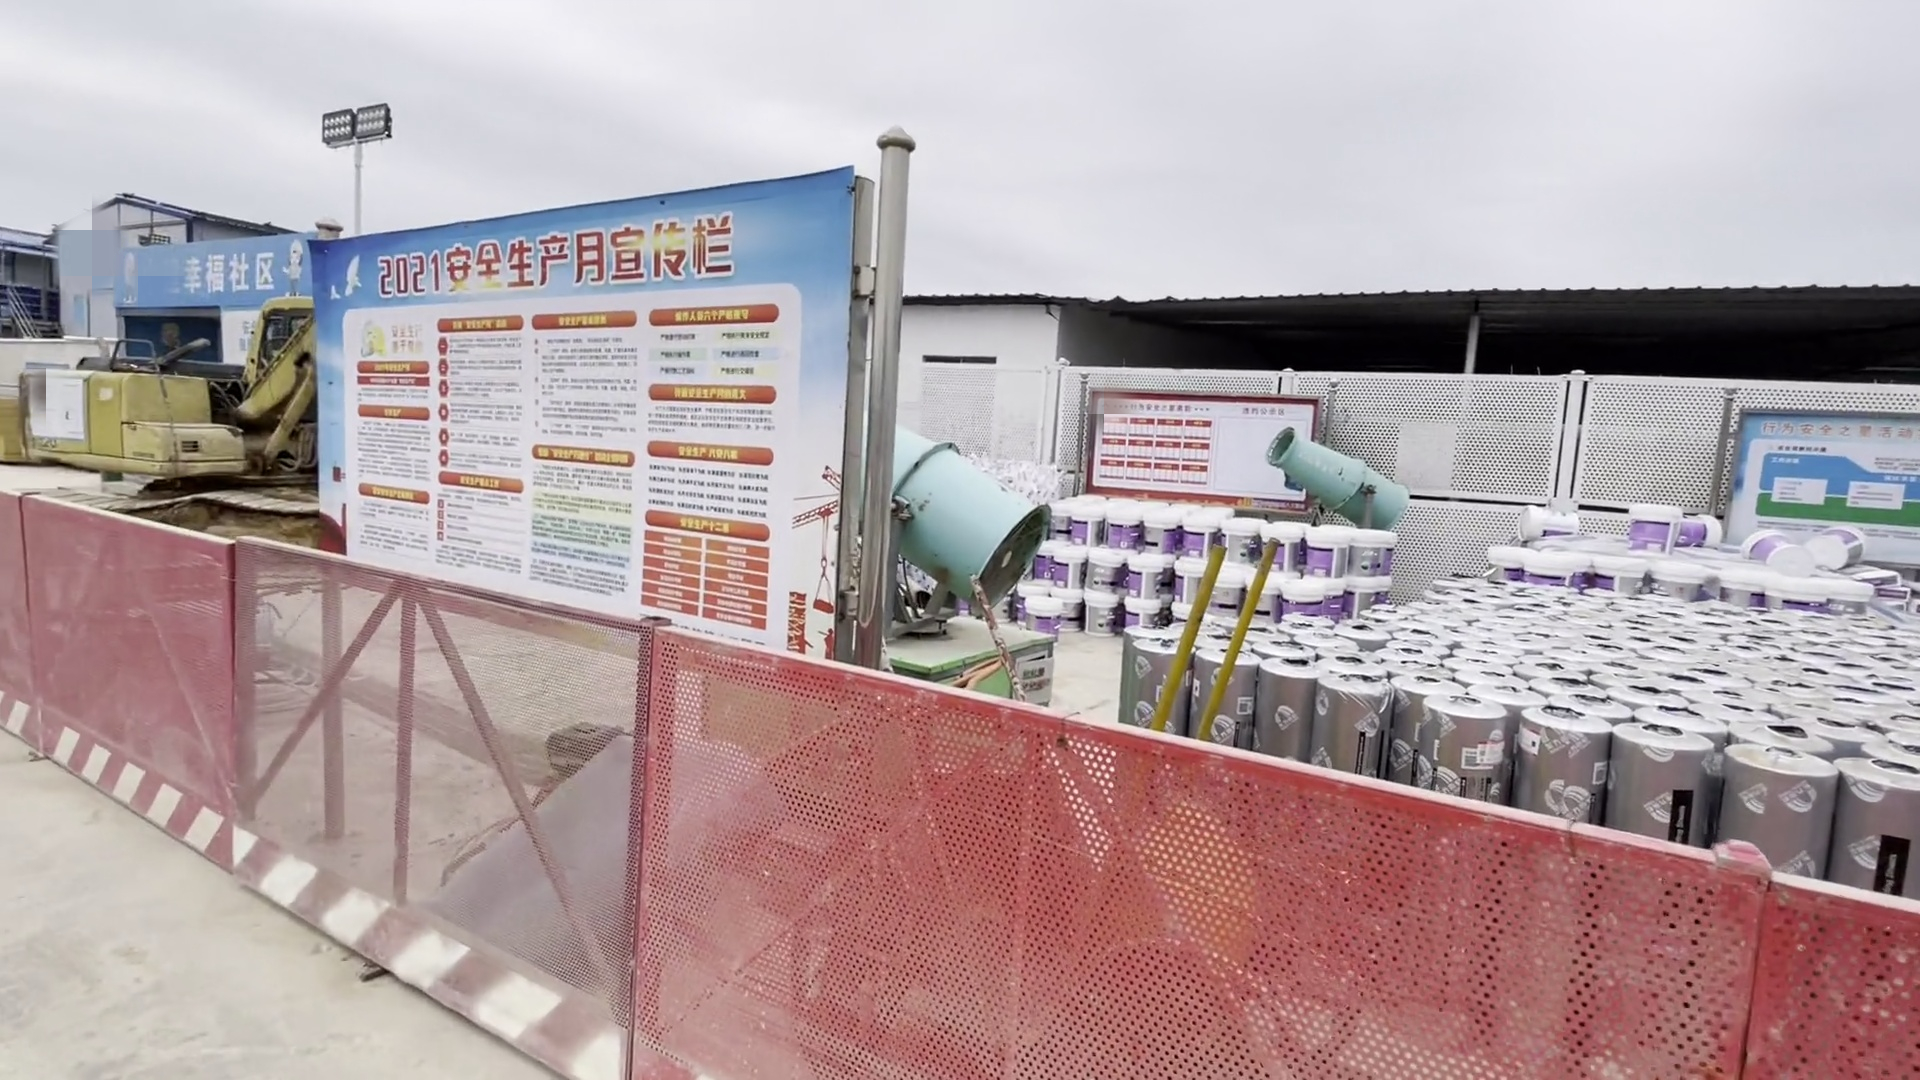fence: (17, 483, 1920, 1077)
